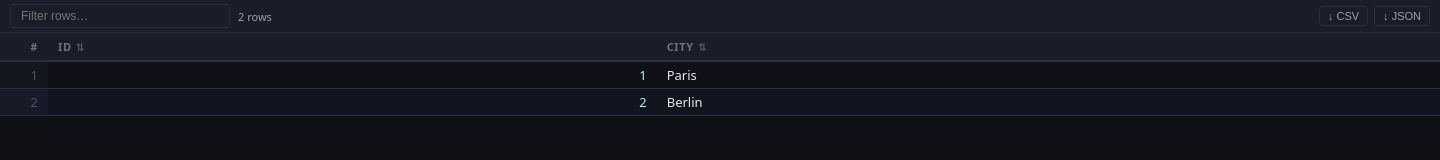
Test case: ResultsTable — global filter › hides rows that do not match the filter
Type "Paris" into the field with placeholder "Filter rows…" at (120, 16), box [10,4,230,28]
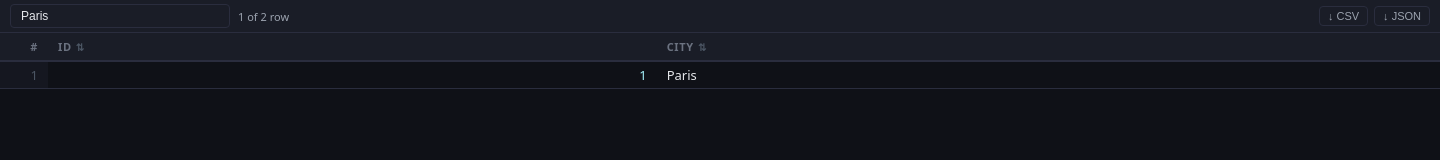
Expected: the text "Paris" is shown, [657,61,1439,88]
Now the text "Berlin" is gone
